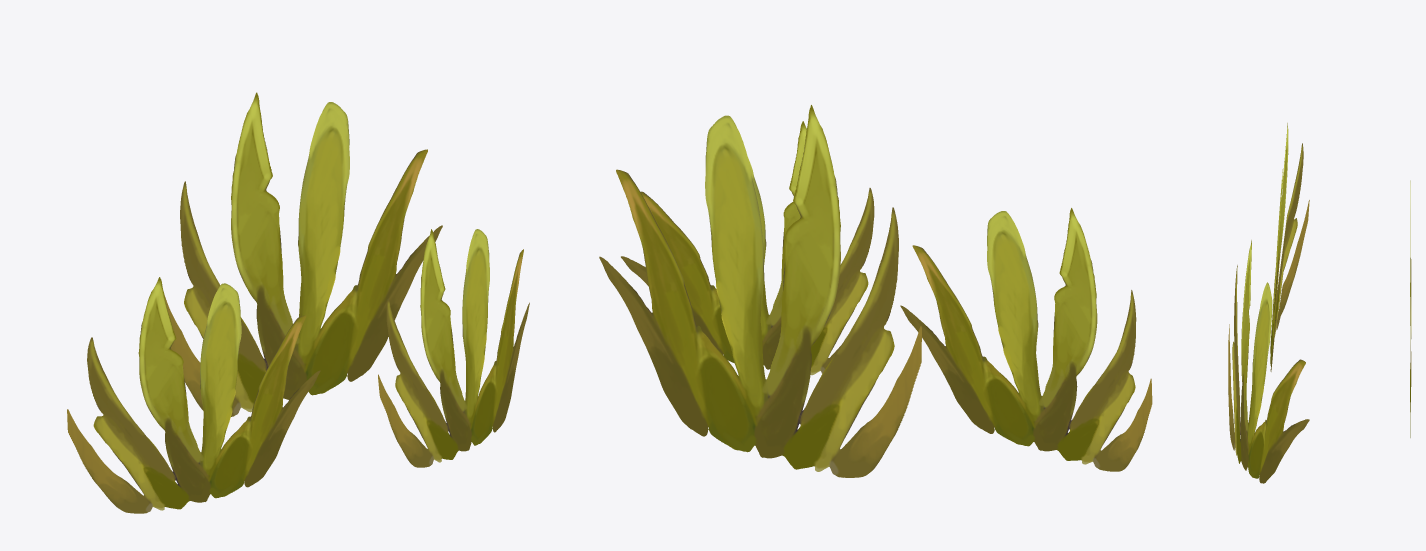
The model's file is Grass_5.fbx.
3 renders of one model, left to right at view 1: azimuth 30°, elevation 25°; view 2: azimuth 150°, elevation 25°; view 3: azimuth 270°, elevation 25°, orthographic. The views are drawn at different scales.
Visible parts, largest first — view 1: polySurface4; view 2: polySurface4; view 3: polySurface4.
Part boxes in pixels (x1,y1,x2,y2): polySurface4: (67,92,529,513); polySurface4: (599,105,1152,477); polySurface4: (1228,123,1411,483).
Bounding box in the file's own units: 148 × 100 × 50.8.
1 material, 1 textured.
